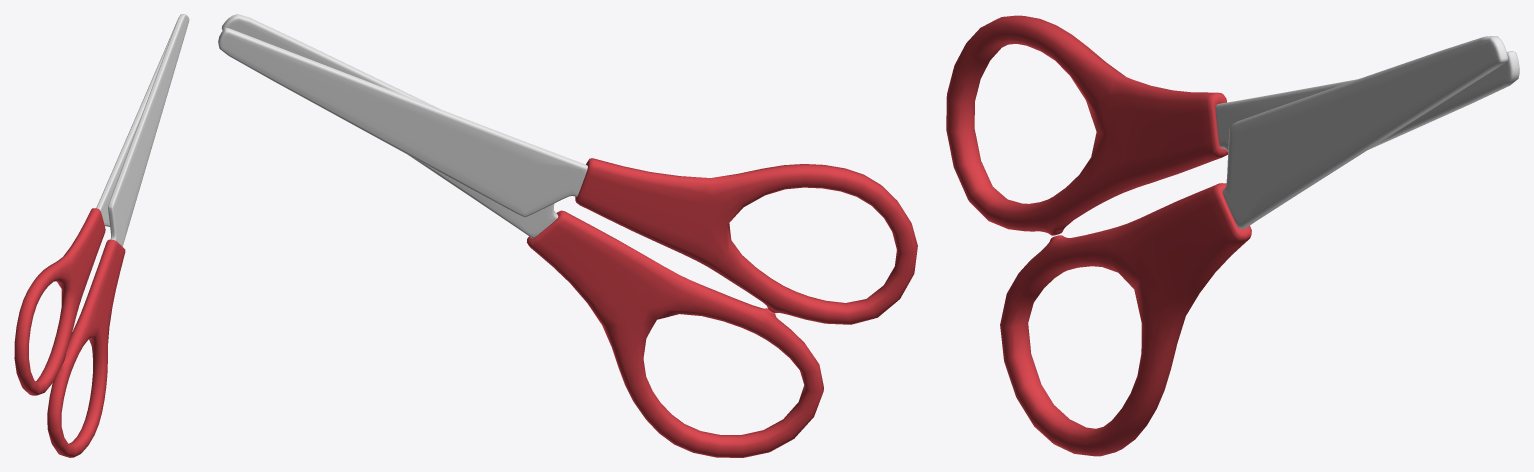
The picture shows the model from 3 angles, left to right: view 1: azimuth 30°, elevation 25°; view 2: azimuth 150°, elevation 25°; view 3: azimuth 270°, elevation 25°; orthographic projection. The views are drawn at different scales.
Parts seen in each view (by area): view 1: scissors.013; view 2: scissors.013; view 3: scissors.013.
Boxes of the visible parts, left/top/right/bottom form: scissors.013: left=14, top=14, right=189, bottom=457; scissors.013: left=218, top=14, right=917, bottom=457; scissors.013: left=946, top=15, right=1519, bottom=456.
Bounding box in the file's own units: 0.5 × 0.4769 × 0.4017.
